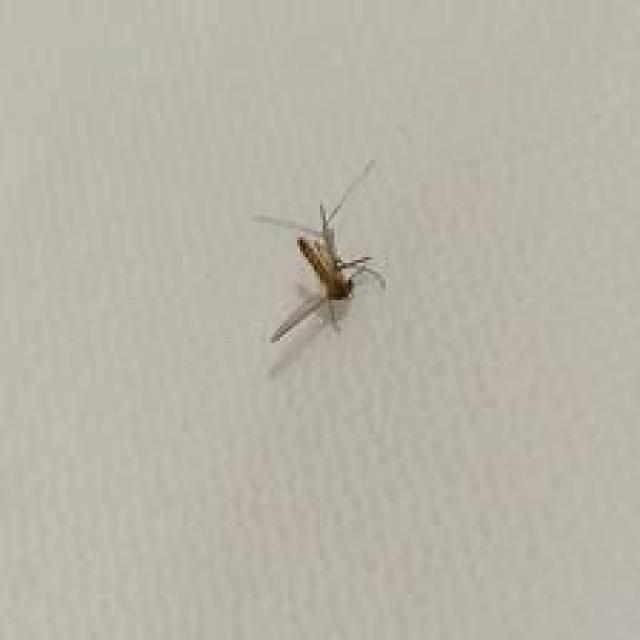Culex: (250, 159, 387, 347)
